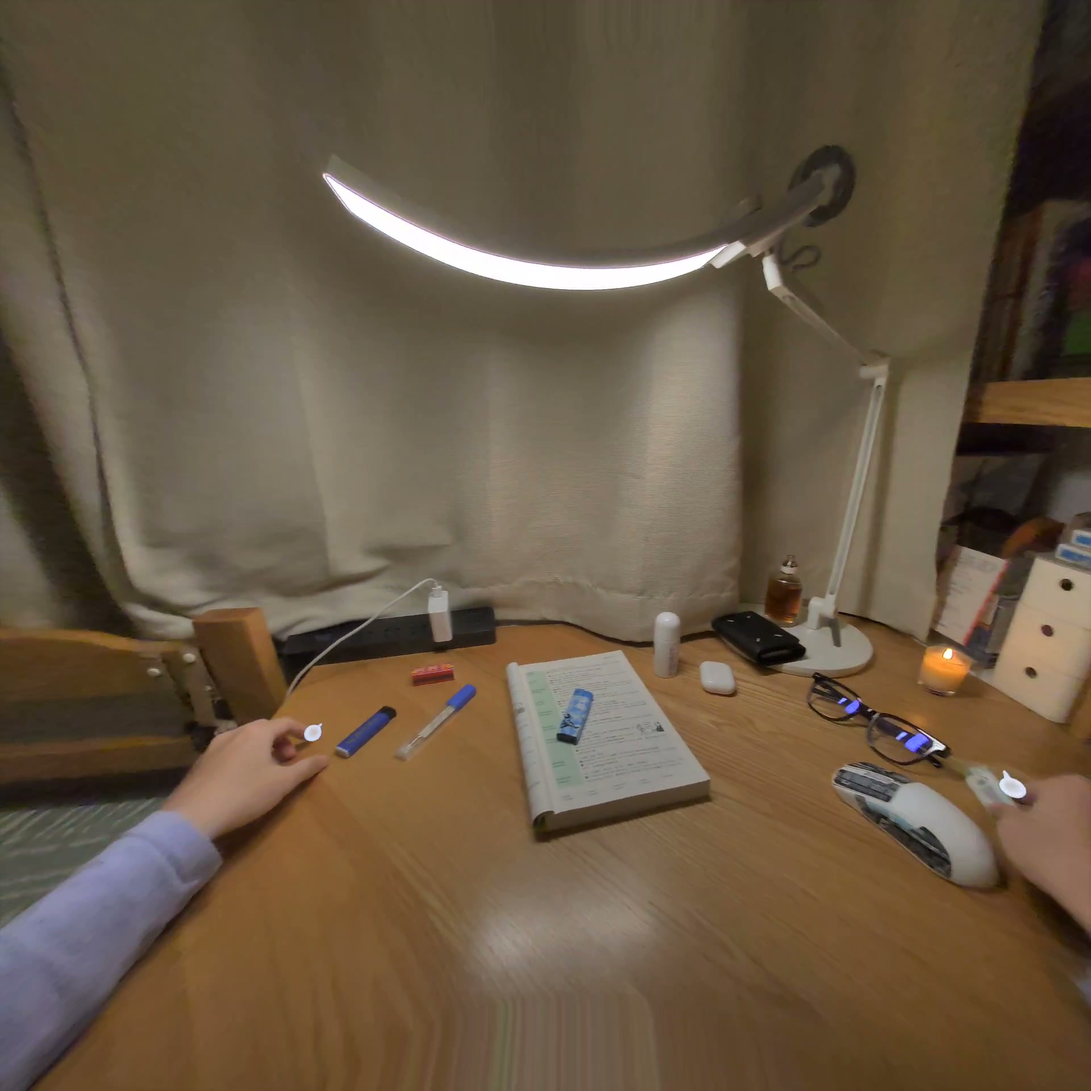lighter: (335, 706, 395, 757), (556, 689, 593, 744), (568, 711, 579, 722)
